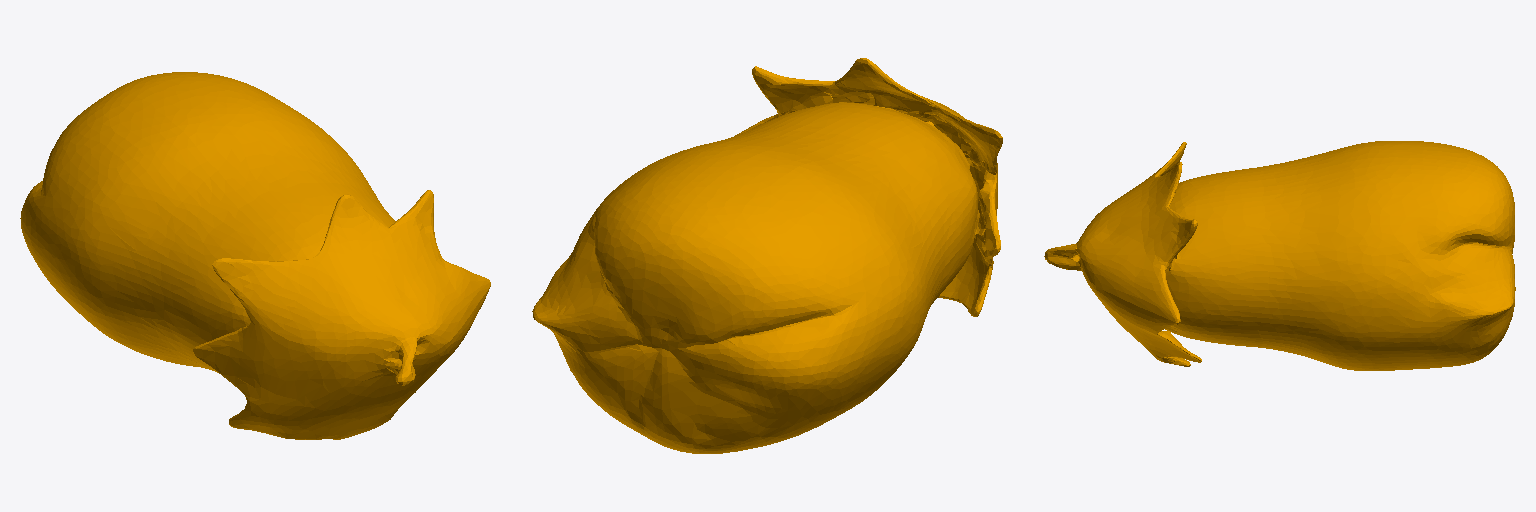
URDF robot description (sample):
<?xml version='1.0' encoding='utf-8'?>
<robot name="sample">
    <link name="sample">
        <visual>
            <origin xyz="0 0 0" rpy="1.5708 0.0 0.0" />
            <geometry>
                <mesh filename="mesh/sample.obj" scale="1.0 1.0 1.0" />
            </geometry>
        </visual>
        <collision>
            <origin xyz="0 0 0" rpy="1.5708 0.0 0.0" />
            <geometry>
                <mesh filename="mesh/sample_collision.obj" scale="1.0 1.0 1.0" />
            </geometry>
            <gazebo>
                <mu1>0.80</mu1> 
                <mu2>0.60</mu2> 
            </gazebo>
        </collision>
        <inertial>
            <mass value="1.0000" />
            <origin xyz="0 0 0" />
            <inertia ixx="1.0" ixy="0.0" ixz="0.0" iyy="1.0" iyz="0.0" izz="1.0" />
        </inertial>
        <extra_info>
            <scale>0.105000</scale>
            <version>v0.1.7</version>
            <category>toy</category>
            <description>toy</description>
            <min_height>0.04</min_height>
            <max_height>0.06</max_height>
            <real_height>0.050</real_height>
            <min_mass>0.05</min_mass>
            <max_mass>0.15</max_mass>
            <color>unknown</color>
            <rgba>[0.5, 0.5, 0.5, 1.0]</rgba>
            <generate_time>20260814085013</generate_time>
            <gs_model>""</gs_model>
        </extra_info>
    </link>
</robot>

--- Render facts (derived) ---
The picture shows the robot from 3 angles, left to right: view 1: azimuth 30°, elevation 25°; view 2: azimuth 150°, elevation 25°; view 3: azimuth 270°, elevation 25°; orthographic projection.
Robot: sample — 1 links, 0 joints (none); root link sample; default pose: every joint at zero.
Visible links, largest first — view 1: sample; view 2: sample; view 3: sample.
Boxes of the visible links, bbox=[...] form: sample: bbox=[20, 72, 490, 439]; sample: bbox=[532, 58, 1002, 453]; sample: bbox=[1044, 141, 1515, 370].
Size in the robot's own frame: 0.065 by 0.105 by 0.05 metres.
Meshes: 1 distinct files referenced, 1 mesh visuals loaded (1 OBJ).
